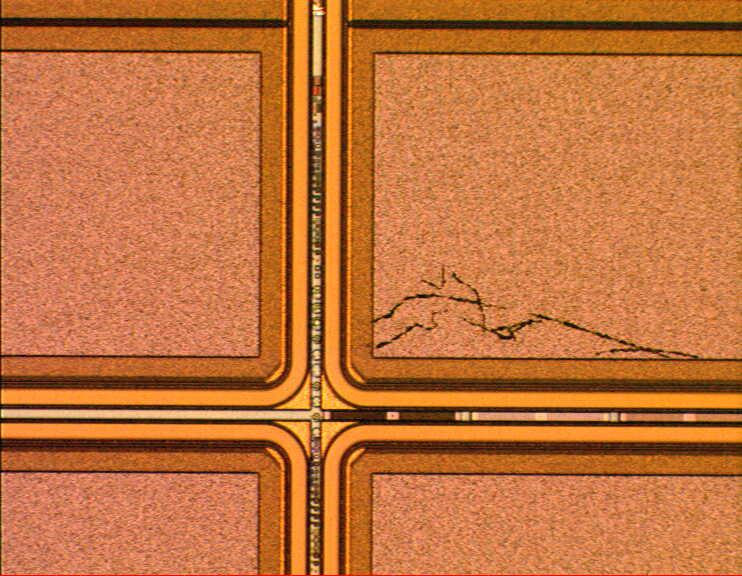SCRATCH: (362, 259, 705, 371)
